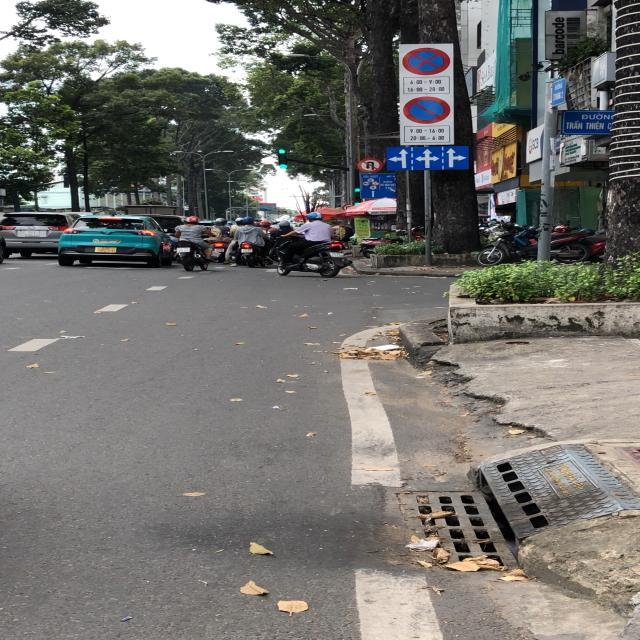Bien bao cam do xe: (402, 95, 453, 125)
Bien bao cam dung xe va do xe: (402, 46, 454, 77)
Bien bao cam quay dau xe: (356, 156, 386, 174)
